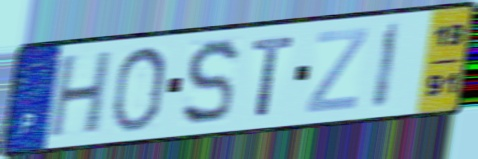H: (45, 47, 116, 143)
I: (369, 19, 404, 112)
O: (108, 43, 170, 135)
S: (179, 36, 242, 130)
T: (249, 33, 299, 119)
Z: (302, 25, 371, 116)
